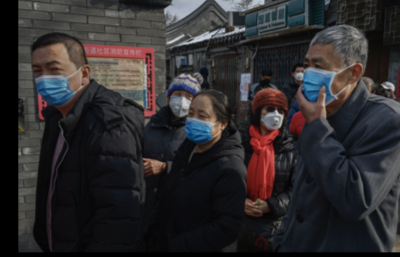with_mask: (304, 53, 349, 107), (32, 56, 79, 105), (184, 105, 217, 144), (259, 104, 284, 130), (169, 91, 194, 116), (295, 70, 306, 82), (262, 77, 272, 86)
